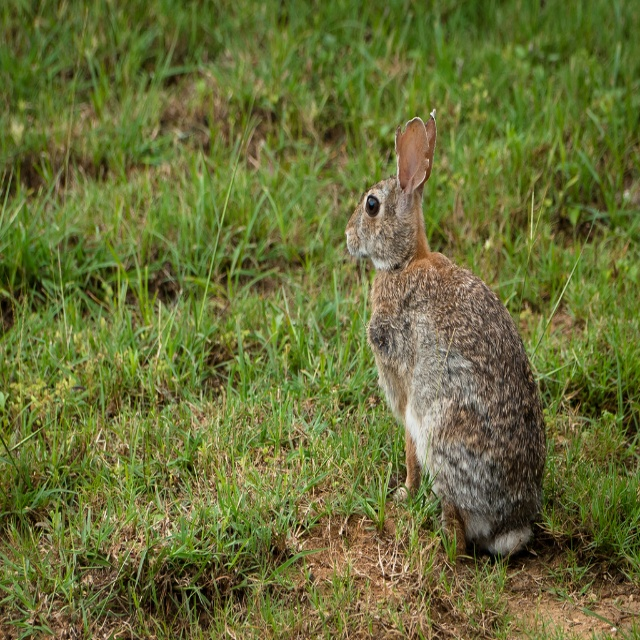Rabbit: (338, 108, 547, 559)
